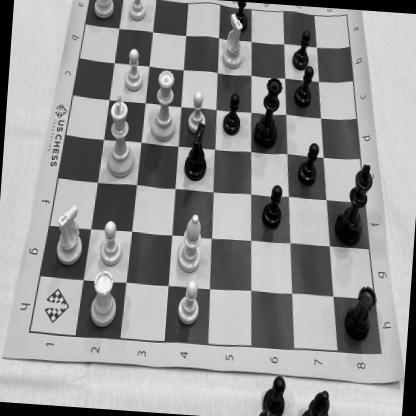bishop: (172, 209, 206, 276)
king: (334, 158, 376, 250), (102, 92, 140, 184)
knight: (50, 200, 88, 269), (216, 6, 250, 74), (180, 121, 214, 184)
pawn: (96, 218, 127, 270), (258, 181, 288, 234), (218, 86, 246, 139), (176, 278, 204, 330), (121, 43, 146, 96), (296, 141, 322, 190), (292, 60, 316, 110), (184, 88, 210, 134), (290, 25, 314, 74), (231, 1, 254, 36), (125, 0, 152, 23)
queen: (147, 62, 182, 146), (251, 73, 286, 152)
rook: (84, 267, 126, 334), (341, 281, 380, 345), (89, 0, 119, 24)
